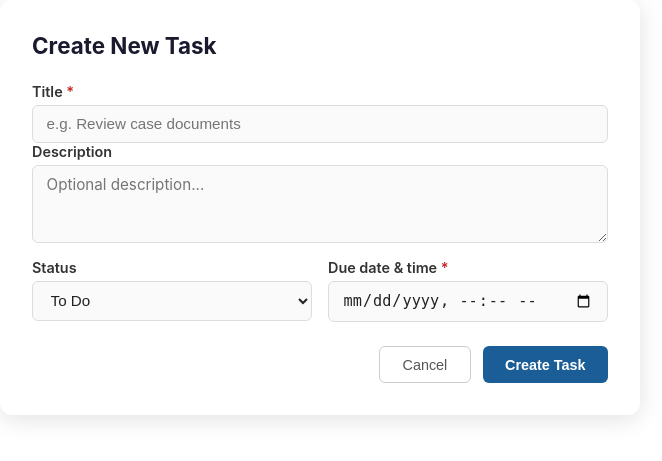
Test case: TaskForm › shows validation error when dueDate is empty on submit
This screenshot has width=662, height=461.
Type "Test task" into the field labelled "Title *" at point(320, 124), box [32,105,608,143]
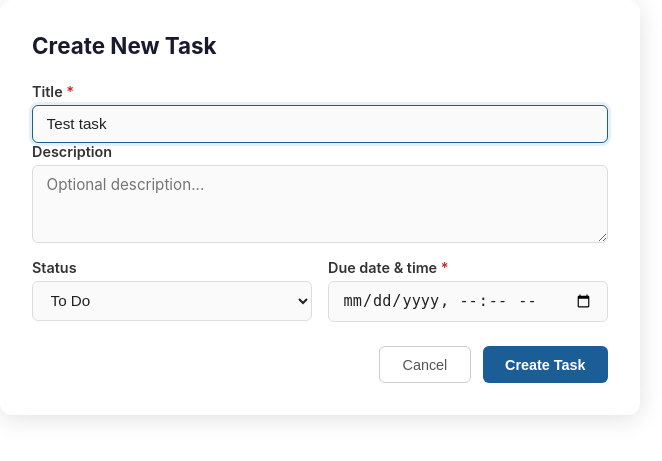
Click the button "Create Task" at point(545, 365), box [483,346,608,383]
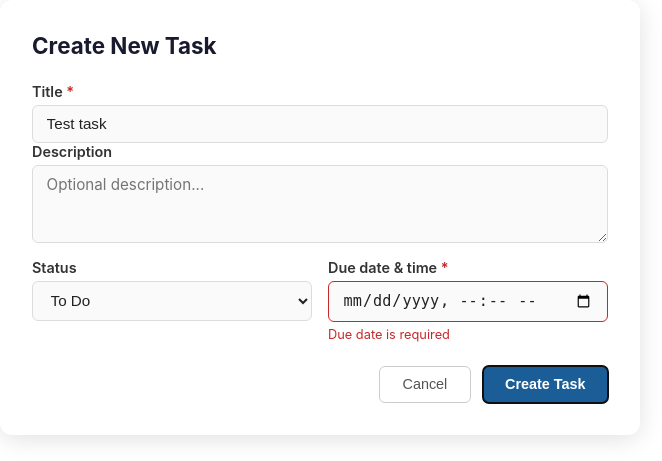
Expected: the text "Due date is required" is shown, [328,327,450,342]
